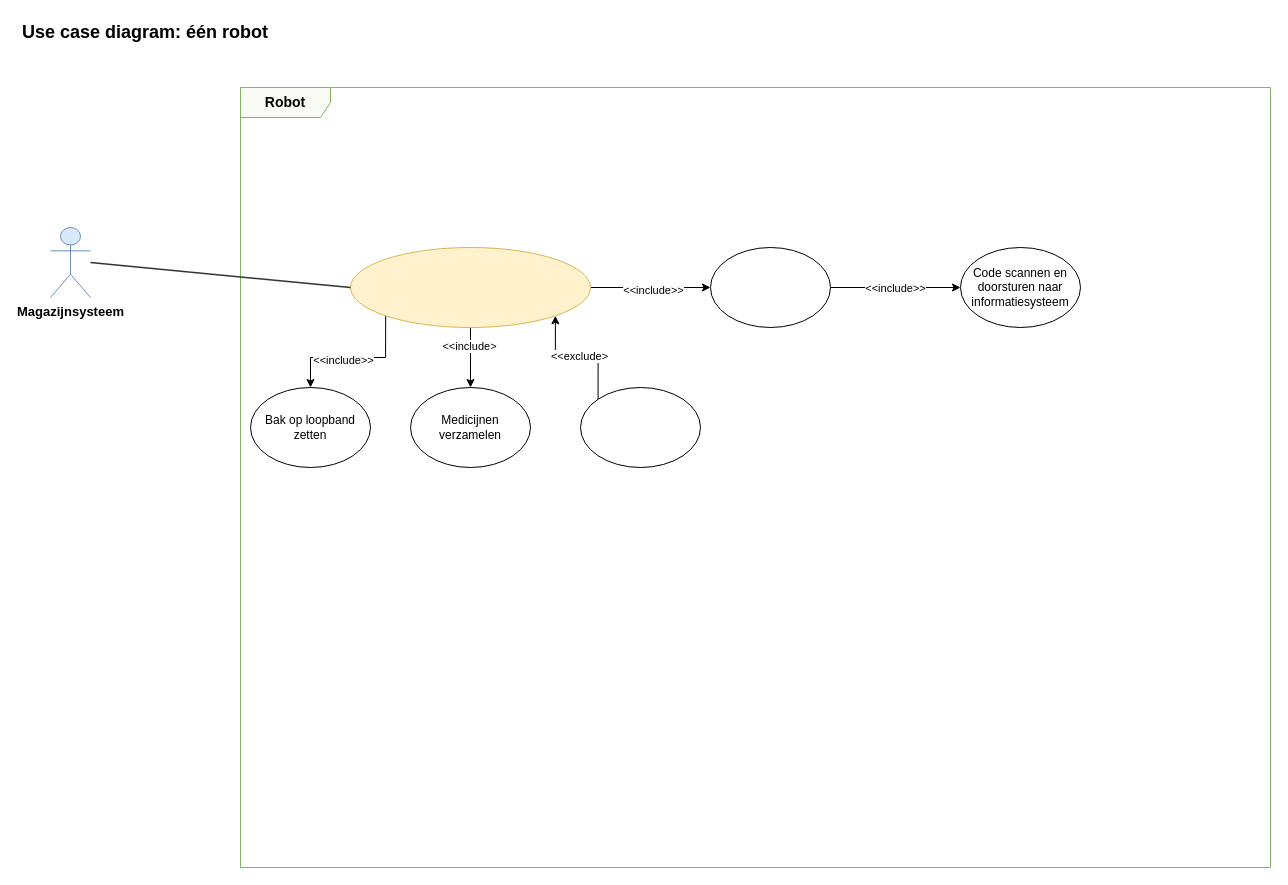
Image size: 1288x885. Some labels were removed from this diagram. Here are the shapes that lost their labels. From the top down, the box of each, then its label:
(350, 246, 590, 328): Deelorder verzamelen
(710, 246, 830, 328): Verzamelbak pakken
(580, 386, 700, 468): Nieuwe bak pakken en verder vullen
